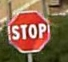stop: (6, 9, 51, 53)
